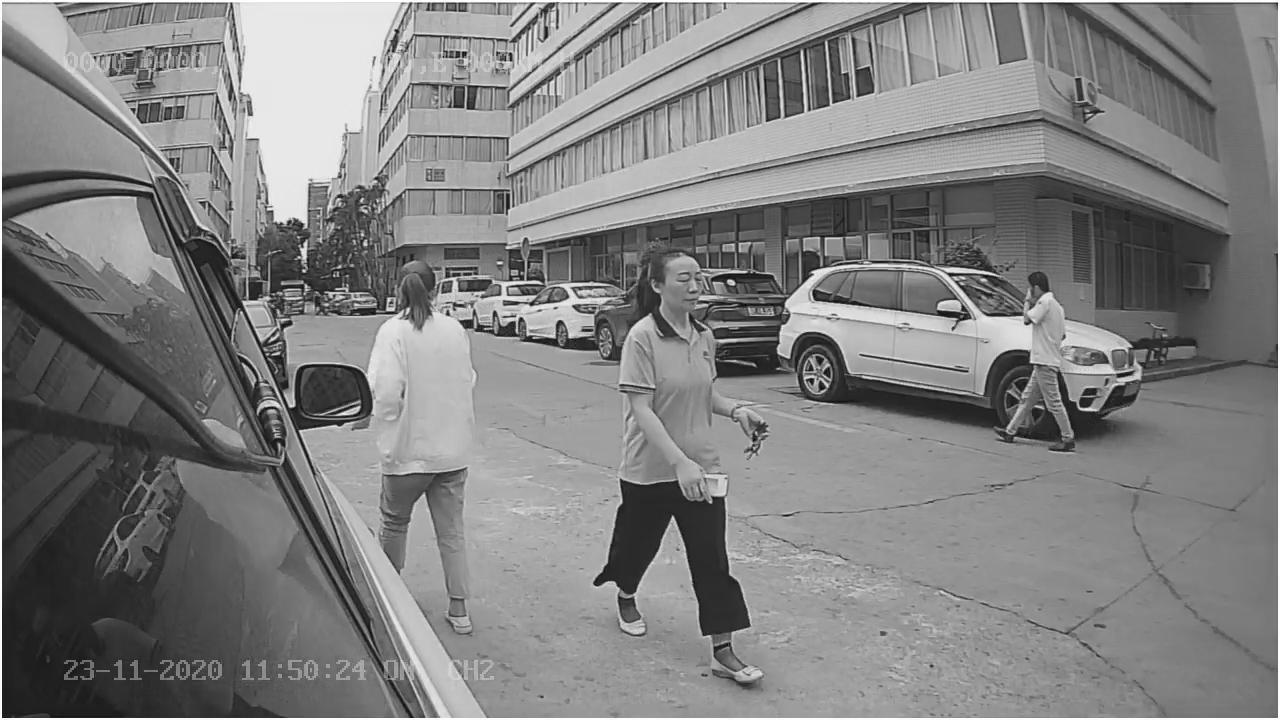person: (609, 241, 765, 681), (360, 251, 480, 370)
